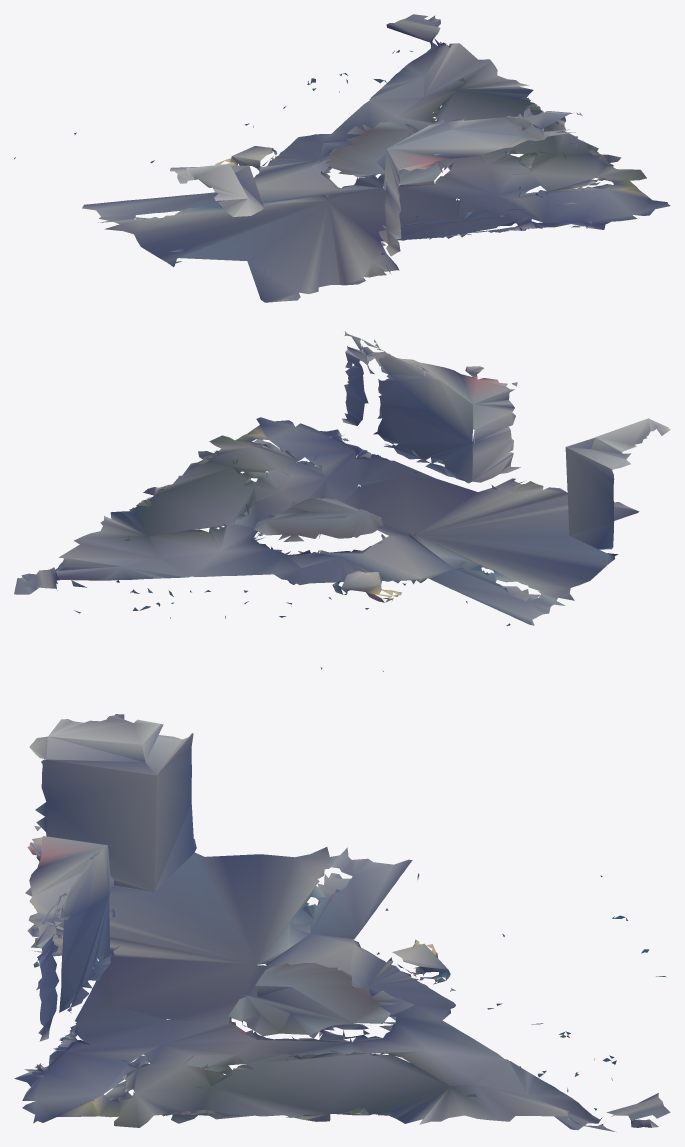
The picture shows the model from 3 angles, top to bottom: view 1: azimuth 30°, elevation 25°; view 2: azimuth 150°, elevation 25°; view 3: azimuth 270°, elevation 25°; orthographic projection. The views are drawn at different scales.
Bounding box in the file's own units: 108 × 31.15 × 106.
